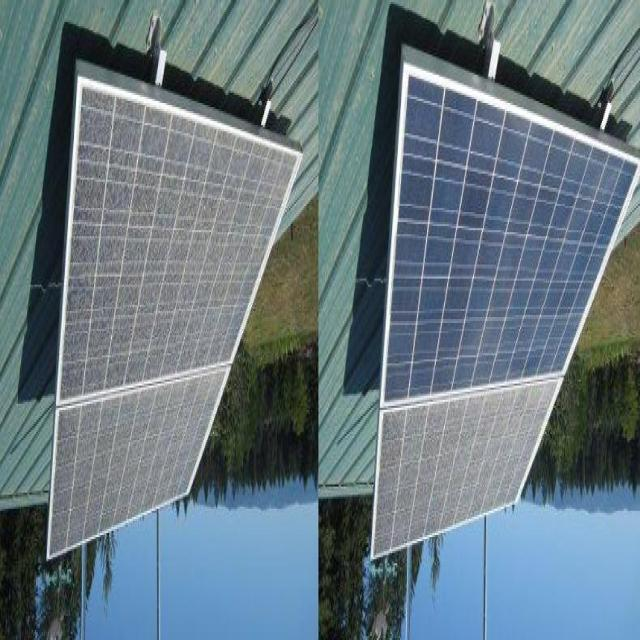Photovoltaic-Panel: (49, 74, 300, 555), (371, 374, 563, 563)
